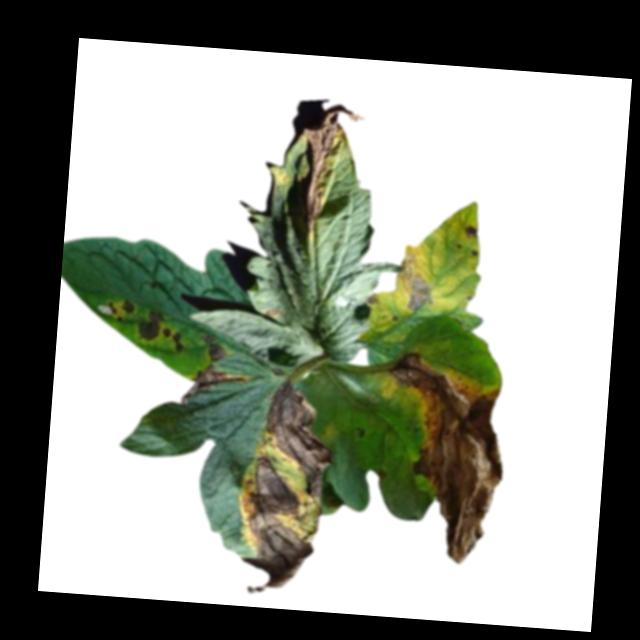Early_blight: (373, 352, 511, 567), (231, 377, 336, 603), (292, 102, 365, 239), (181, 333, 251, 409), (394, 256, 436, 315), (138, 308, 164, 343), (105, 298, 135, 322), (161, 325, 183, 354), (460, 223, 479, 243)
